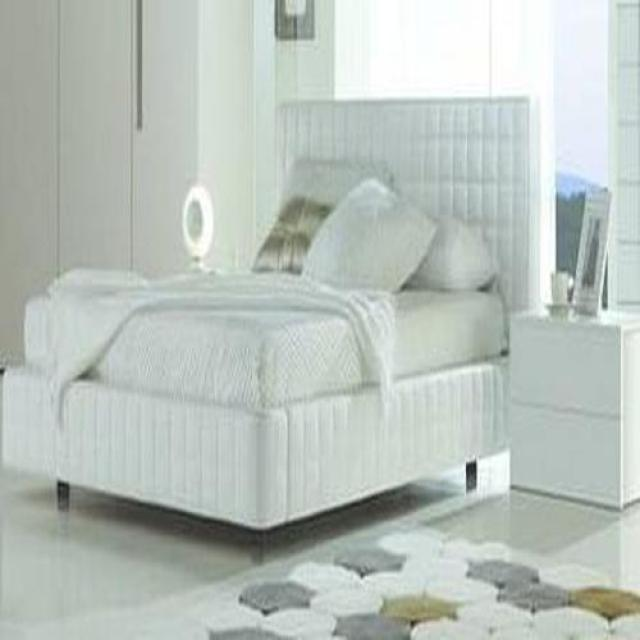bed: (0, 96, 547, 532)
